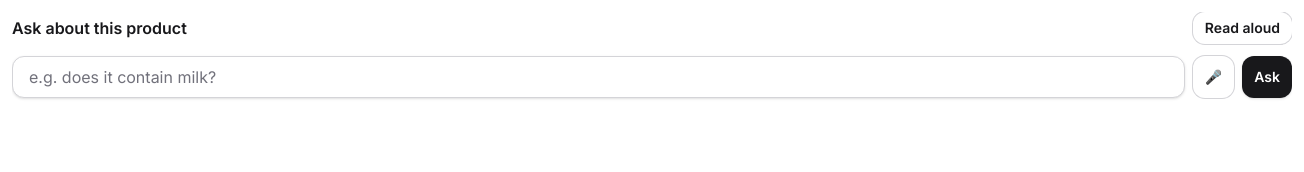
Test: [VOICE-8] speech errors don't break the page › still shows the typed answer when speaking throws
Type "score" into the field named "Your question".
click(598, 77); type("score")  # box 12,56 -> 1185,98
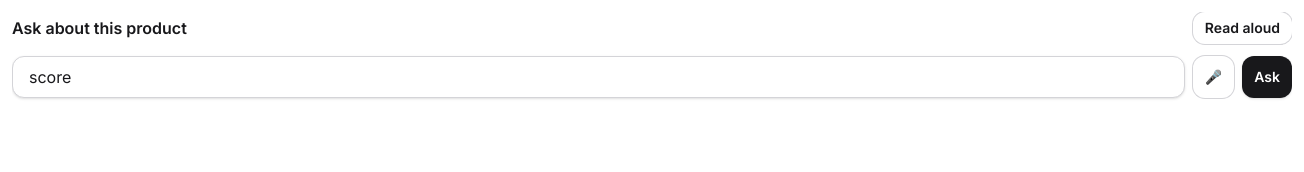
Click the button "Ask".
click(1267, 77)  # box 1242,56 -> 1292,98
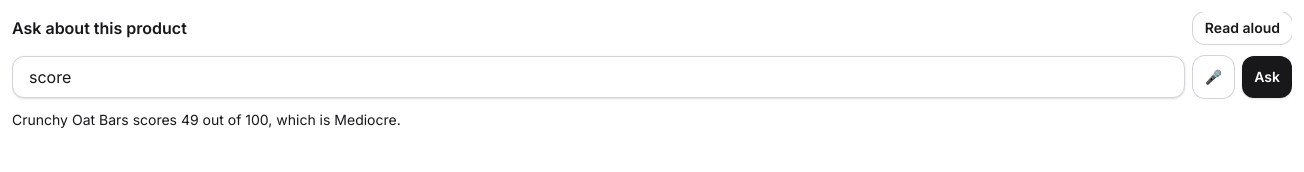
Expected: the button "Read aloud" is shown, 1193,12 -> 1292,44
Result: the text "Crunchy Oat Bars scores 49 out of 100, which is Mediocre." is shown at 12,111 -> 401,128
